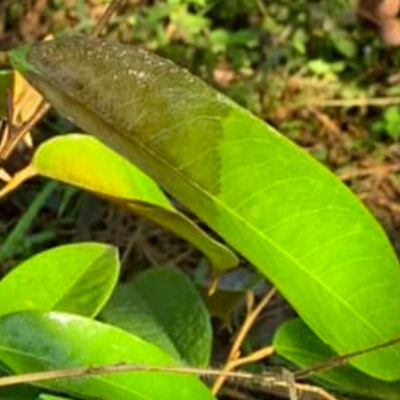Leaf_Rhizoctonia: (0, 33, 400, 399)
